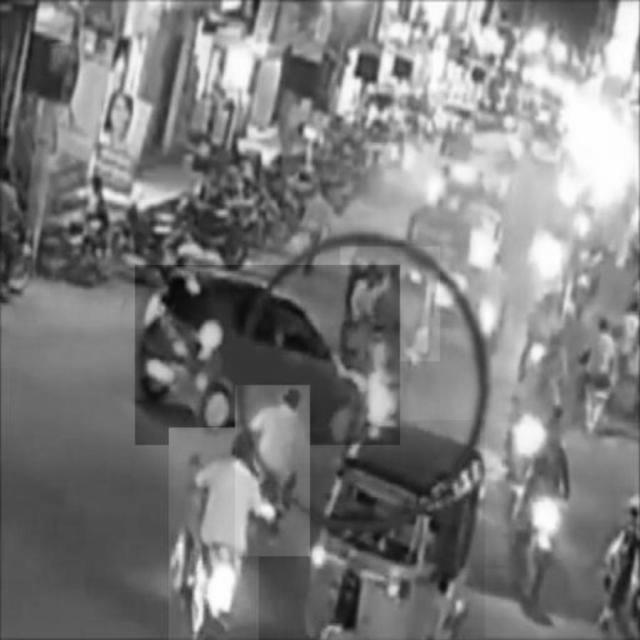accident: (135, 265, 399, 445)
vehicle: (308, 421, 485, 638), (169, 428, 259, 640), (235, 386, 311, 556), (341, 247, 441, 361)
